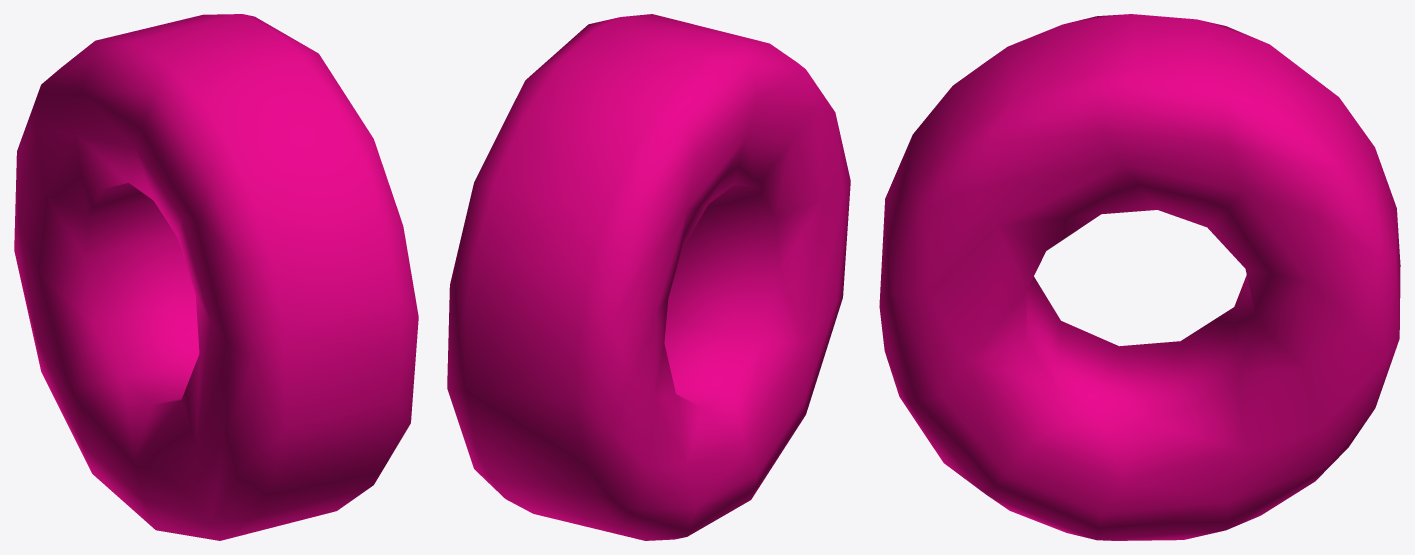
Rendered from Tire_1_Low_LOD1.fbx.
3 views of the same model, side by side, from view 1: azimuth 30°, elevation 25°; view 2: azimuth 150°, elevation 25°; view 3: azimuth 270°, elevation 25° (orthographic).
Visible parts, largest first — view 1: LowPoly; view 2: LowPoly; view 3: LowPoly.
Part boxes in pixels (x1,y1,x2,y2): LowPoly: (14, 14, 418, 540); LowPoly: (447, 14, 850, 540); LowPoly: (879, 14, 1400, 540).
Bounding box in the file's own units: 127 × 312 × 311.
